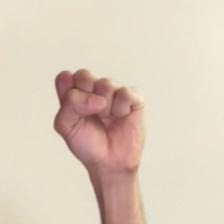S: (50, 60, 157, 179)
